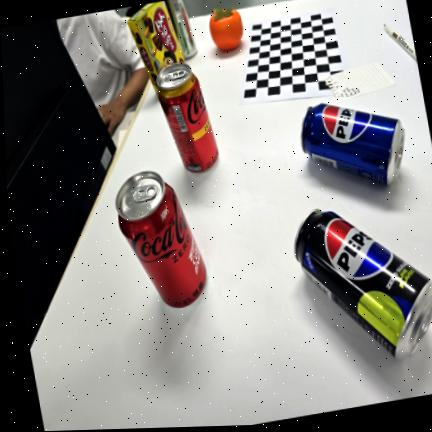can_coke_decaf: (157, 62, 218, 172)
can_coke_zero: (115, 171, 206, 307)
can_pepsi: (300, 103, 404, 184)
can_pepsi_zero: (294, 209, 432, 355)
